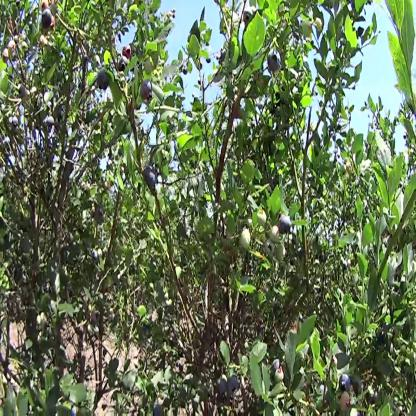intermediate: (340, 392, 350, 413), (8, 41, 17, 55), (3, 49, 10, 63), (42, 1, 50, 9)
mature: (218, 377, 239, 396), (144, 166, 159, 191), (267, 50, 282, 72), (140, 80, 154, 101), (280, 214, 292, 234), (98, 70, 110, 90), (42, 8, 53, 29), (340, 373, 352, 392), (244, 9, 255, 25), (119, 56, 129, 71), (123, 46, 132, 58), (46, 117, 55, 129)
young: (241, 229, 252, 251), (270, 226, 281, 243), (277, 245, 287, 263), (265, 240, 275, 258), (302, 21, 313, 37), (275, 367, 285, 382), (257, 210, 267, 224), (94, 55, 101, 68)
